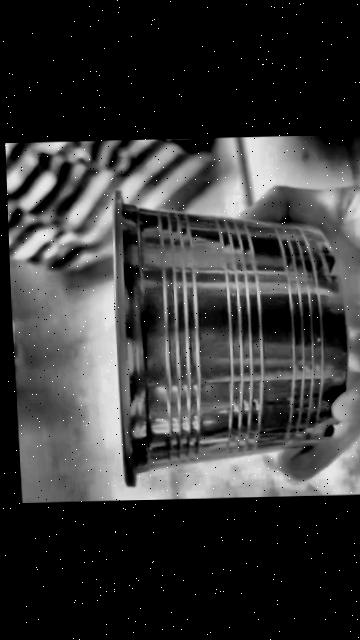pot: (112, 192, 346, 485)
